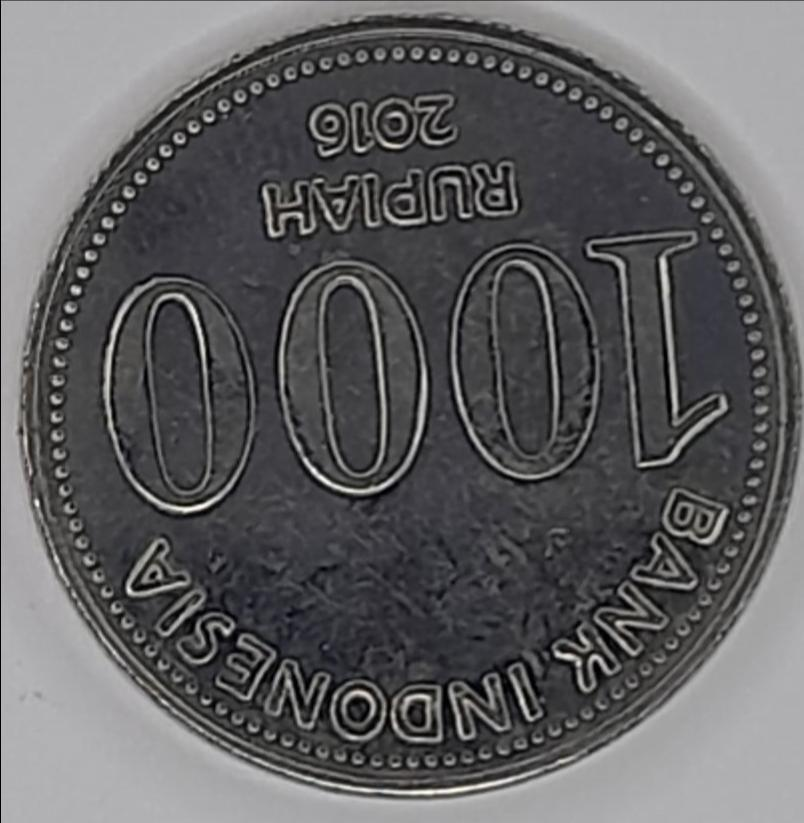coin_1000_e2016: (14, 16, 793, 823)
